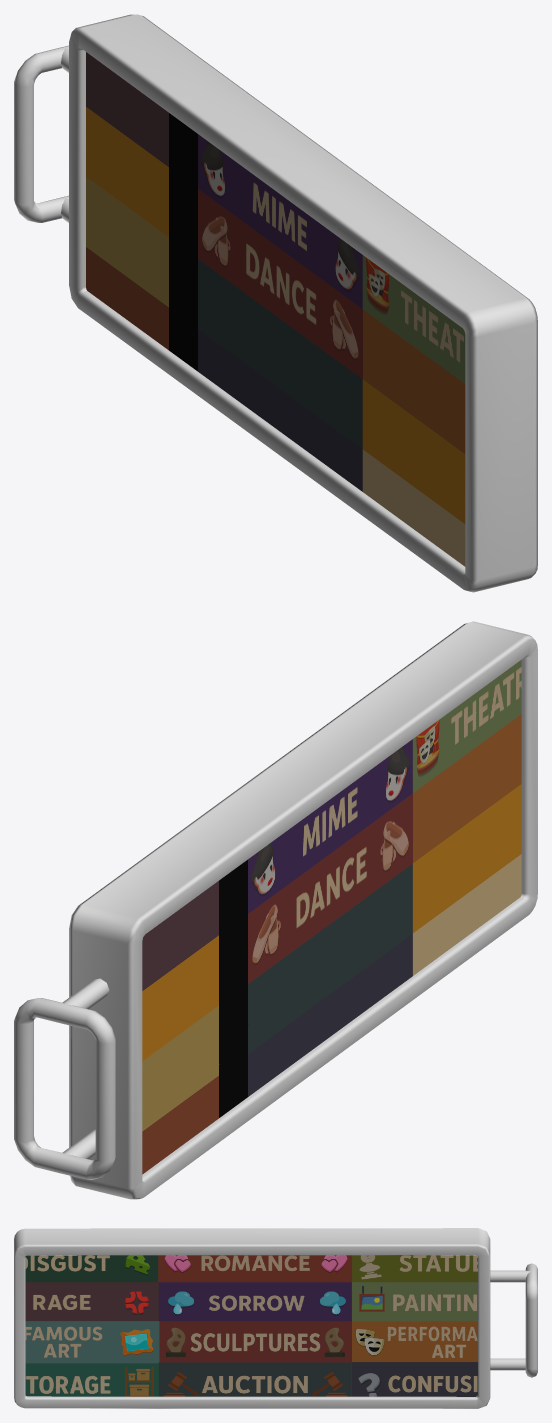
File: SmallWallSign.fbx
3 renders of one model, top to bottom at view 1: azimuth 30°, elevation 25°; view 2: azimuth 150°, elevation 25°; view 3: azimuth 270°, elevation 25°, orthographic. The views are drawn at different scales.
Visible parts, largest first — view 1: SmallWallSign_LOD0; view 2: SmallWallSign_LOD0; view 3: SmallWallSign_LOD0.
Boxes of the visible parts, x1,y1,x2,y2 form: SmallWallSign_LOD0: [14, 14, 537, 592]; SmallWallSign_LOD0: [14, 621, 537, 1199]; SmallWallSign_LOD0: [14, 1228, 537, 1408].
Size of what is drawn, in the model's own units: 0.1494 by 1.16 by 0.403.
